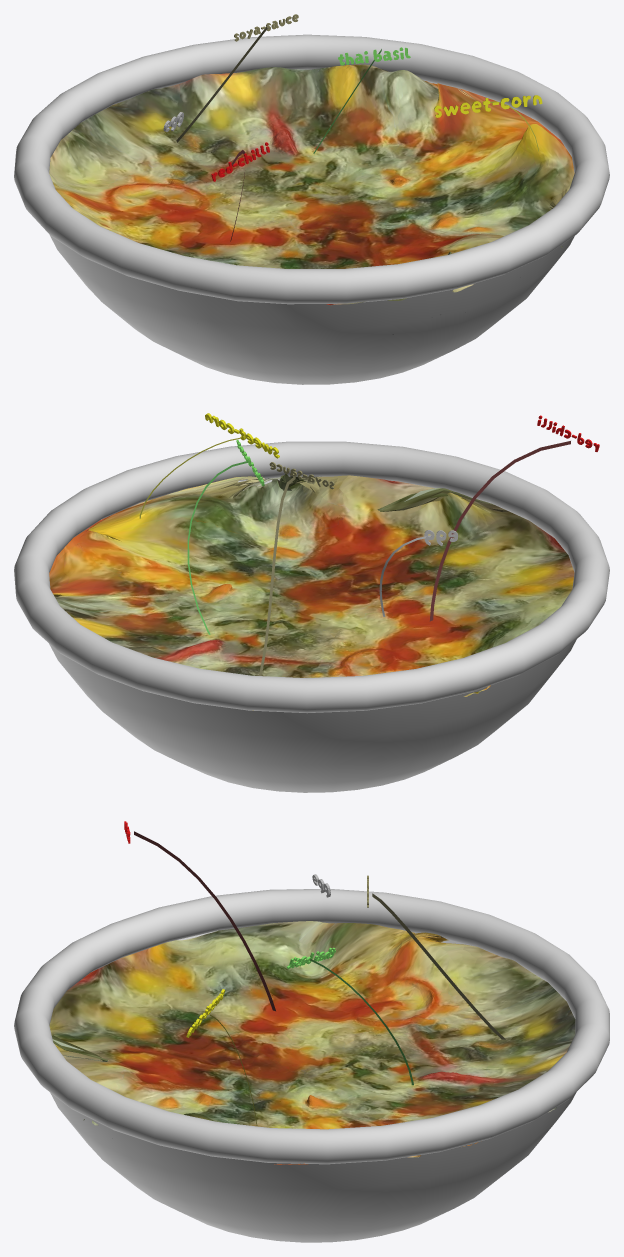
Rendered from soup.glb.
3 renders of one model, top to bottom at view 1: azimuth 30°, elevation 25°; view 2: azimuth 150°, elevation 25°; view 3: azimuth 270°, elevation 25°, orthographic.
Parts seen in each view (by area): view 1: Mesh_0, bowl, Text.004, Text; view 2: Mesh_0, bowl, BézierCurve.005, BézierCurve.001, Text.004; view 3: Mesh_0, bowl, BézierCurve.005, BézierCurve.001.
Part boxes in pixels (x1,y1,x2,y2): Mesh_0: [49, 64, 574, 334]; bowl: [14, 34, 609, 384]; Text.004: [434, 95, 542, 117]; Text: [338, 47, 410, 65]; Mesh_0: [49, 474, 574, 710]; bowl: [14, 441, 609, 792]; BézierCurve.005: [429, 441, 570, 621]; BézierCurve.001: [258, 475, 295, 675]; Text.004: [205, 413, 279, 458]; Mesh_0: [49, 921, 575, 1164]; bowl: [14, 889, 609, 1242]; BézierCurve.005: [134, 831, 275, 1011]; BézierCurve.001: [372, 893, 505, 1039].
Bounding box in the file's own units: 0.9916 × 0.5506 × 0.9904.
Materials: 11 (1 with a texture image).
